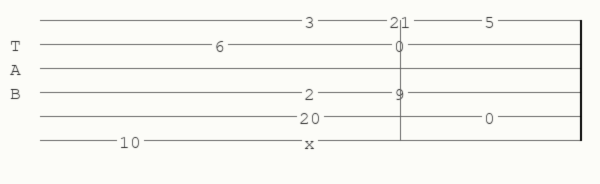0: (394, 37, 409, 52), (484, 109, 499, 124)
10: (119, 133, 145, 148)
2: (304, 85, 319, 100)
20: (299, 109, 325, 124)
21: (389, 13, 415, 28)
3: (304, 13, 319, 28)
5: (484, 13, 499, 28)
6: (214, 37, 229, 52)
9: (394, 85, 409, 100)
x: (304, 134, 319, 146)
